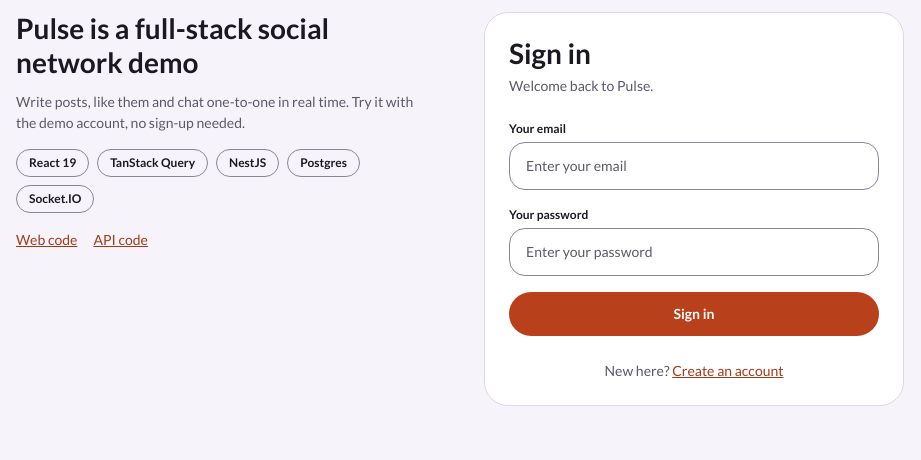
Test: Login › shows the API answer to a 401
Type "ada@example.com" into the field labelled "Your email".
click(694, 166); type("ada@example.com")  # box [509,142,879,190]
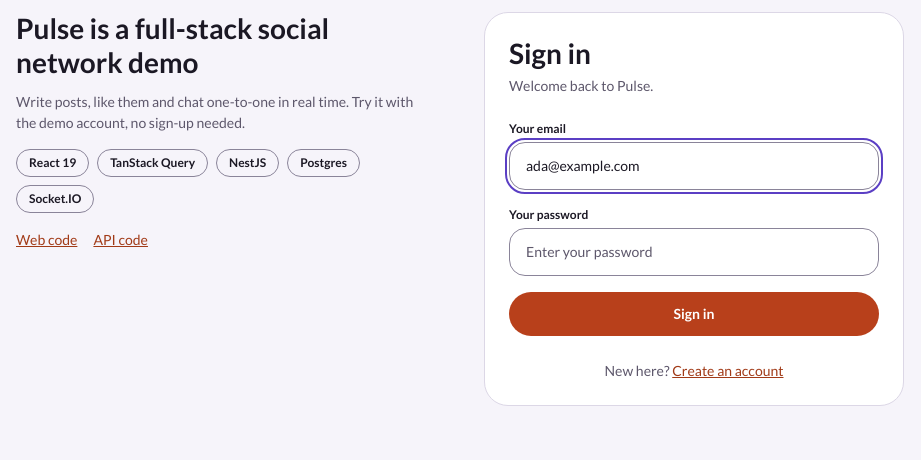
Type "wrong-password" into the password field labelled "Your password".
click(694, 252); type("wrong-password")  # box [509,228,879,276]
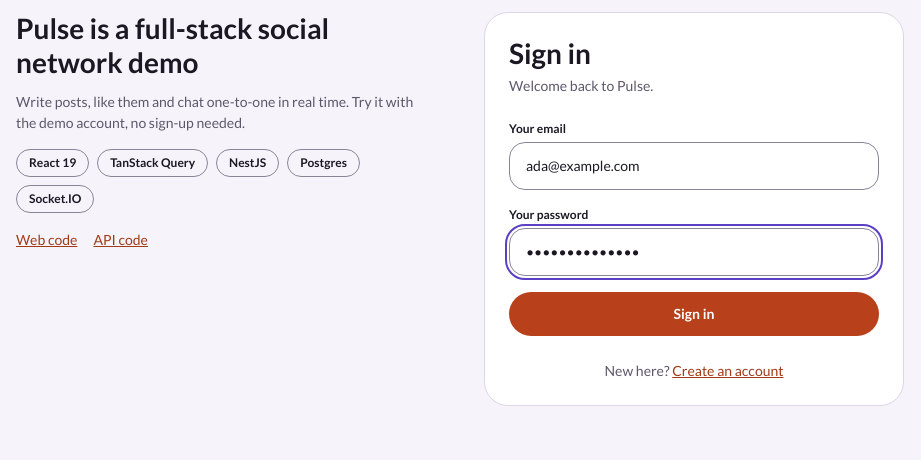
Click the button "Sign in".
click(694, 314)  # box [509,292,879,336]
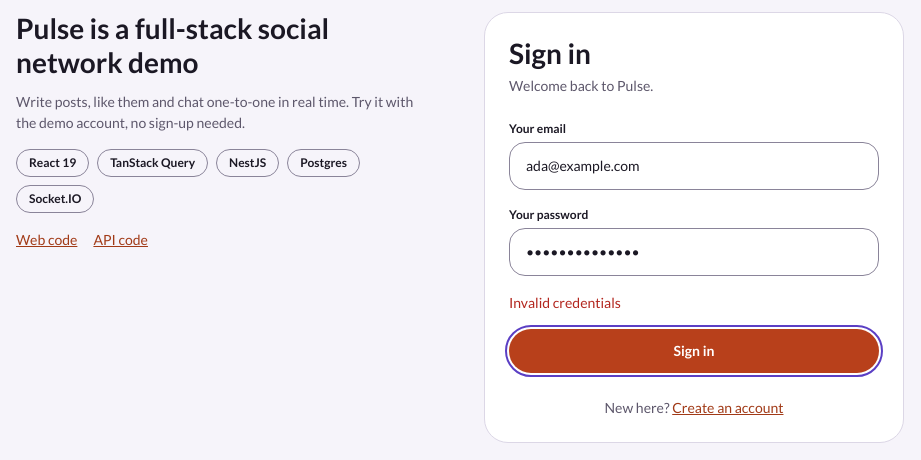
Now the message reads "Invalid credentials", box [509,294,621,311]
